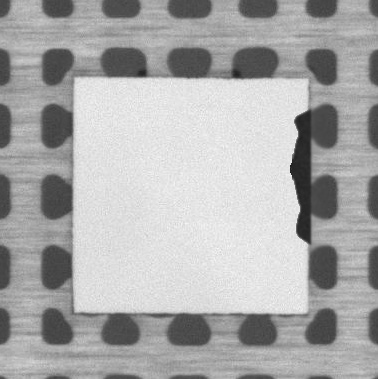DIE_BROKEN: (288, 105, 313, 251)
